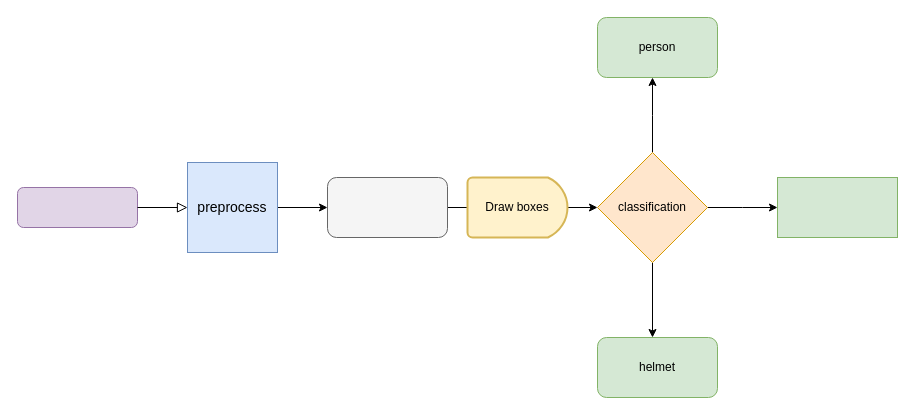
The diagram is 915 pixels wide and 415 high, and some of its shapes have lost their labels. The box of each missing label's shape, as (x1, y1, x2, y2) in pixels:
Head: (776, 176, 898, 238)
Input Image: (16, 186, 138, 228)
Model: (326, 176, 448, 238)
